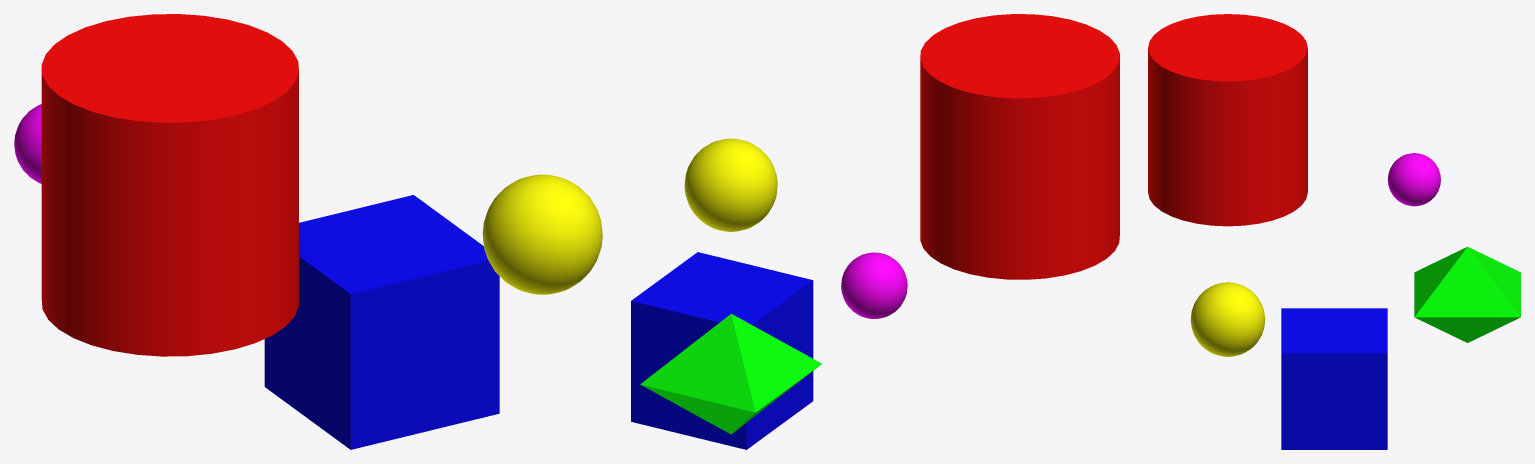
The model's file is primitives1.glb.
3 renders of one model, left to right at view 1: azimuth 30°, elevation 25°; view 2: azimuth 150°, elevation 25°; view 3: azimuth 270°, elevation 25°, orthographic. The views are drawn at different scales.
Visible parts, largest first — view 1: Cylinder, Cube, Sphere.001, Sphere; view 2: Cylinder, Cube, Cube.003, Sphere.001, Sphere; view 3: Cylinder, Cube, Cube.003, Sphere.001, Sphere.
Boxes of the visible parts, <box> form: Cylinder: <box>41,14,298,356</box>; Cube: <box>264,195,499,449</box>; Sphere.001: <box>482,174,602,294</box>; Sphere: <box>14,104,41,183</box>; Cylinder: <box>920,14,1119,279</box>; Cube: <box>631,252,813,449</box>; Cube.003: <box>640,313,821,434</box>; Sphere.001: <box>684,138,777,231</box>; Sphere: <box>841,252,907,318</box>; Cylinder: <box>1148,14,1307,226</box>; Cube: <box>1281,308,1387,449</box>; Cube.003: <box>1414,246,1520,342</box>; Sphere.001: <box>1190,282,1265,356</box>; Sphere: <box>1387,153,1440,206</box>.
Bounding box in the file's own units: 7.2 × 6 × 7.
